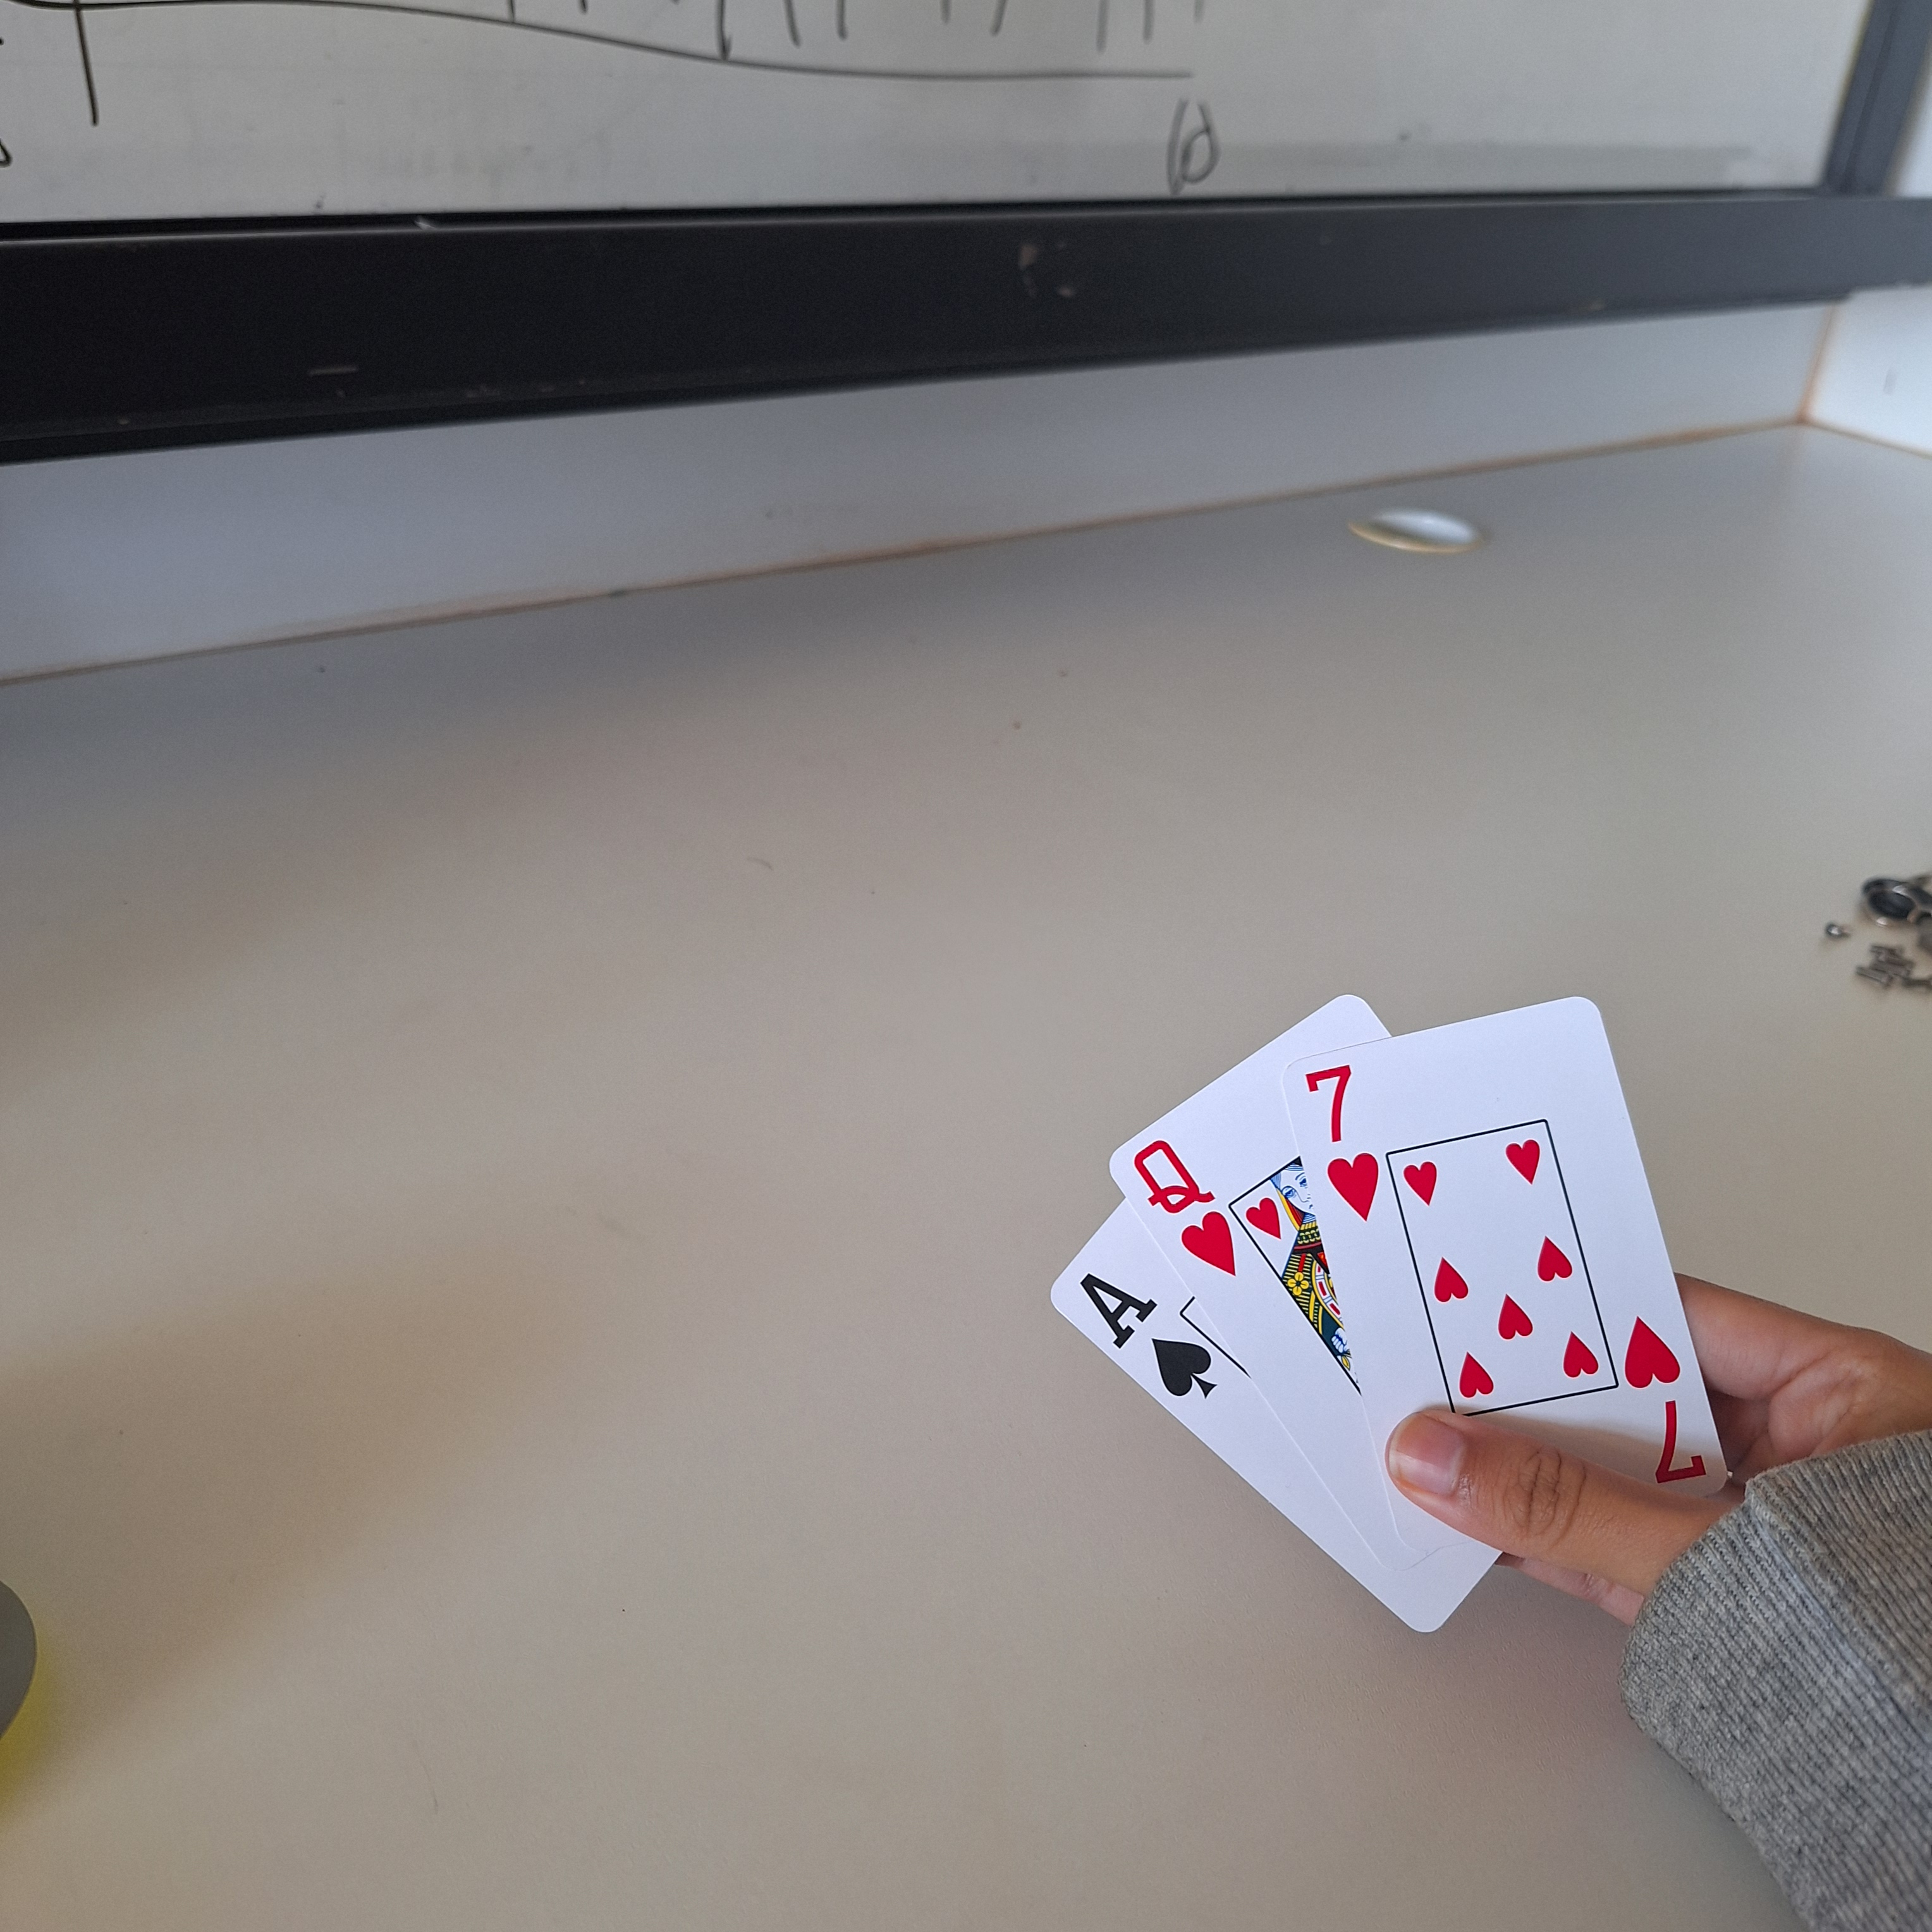7C: (1619, 1304, 1718, 1491), (1299, 1056, 1391, 1223)
AE: (1070, 1269, 1215, 1401)
QC: (1127, 1136, 1242, 1283)
